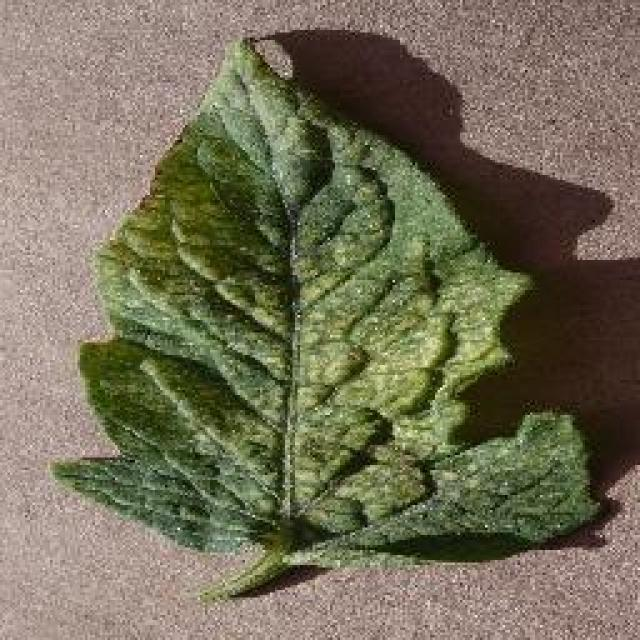Tomato mosaic virus leaf: (52, 28, 600, 582)
